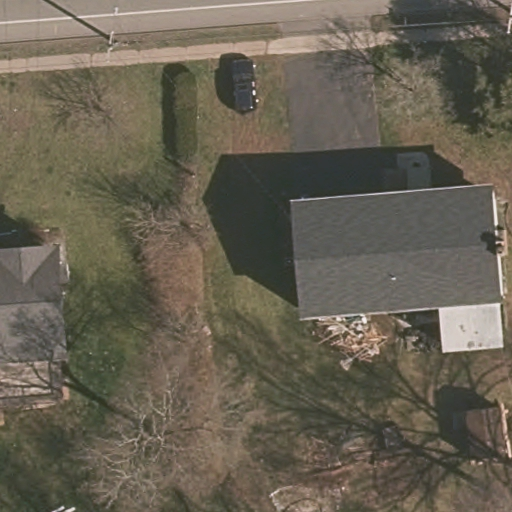DT: (103, 26, 129, 61)
